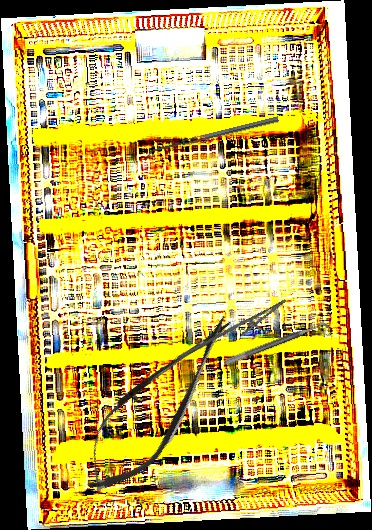Fixation Ring: (223, 319, 334, 375)
Micro Scissor: (63, 297, 254, 509)
Needle Holder: (176, 286, 292, 380)
Spatula Surgical: (142, 116, 281, 161)
